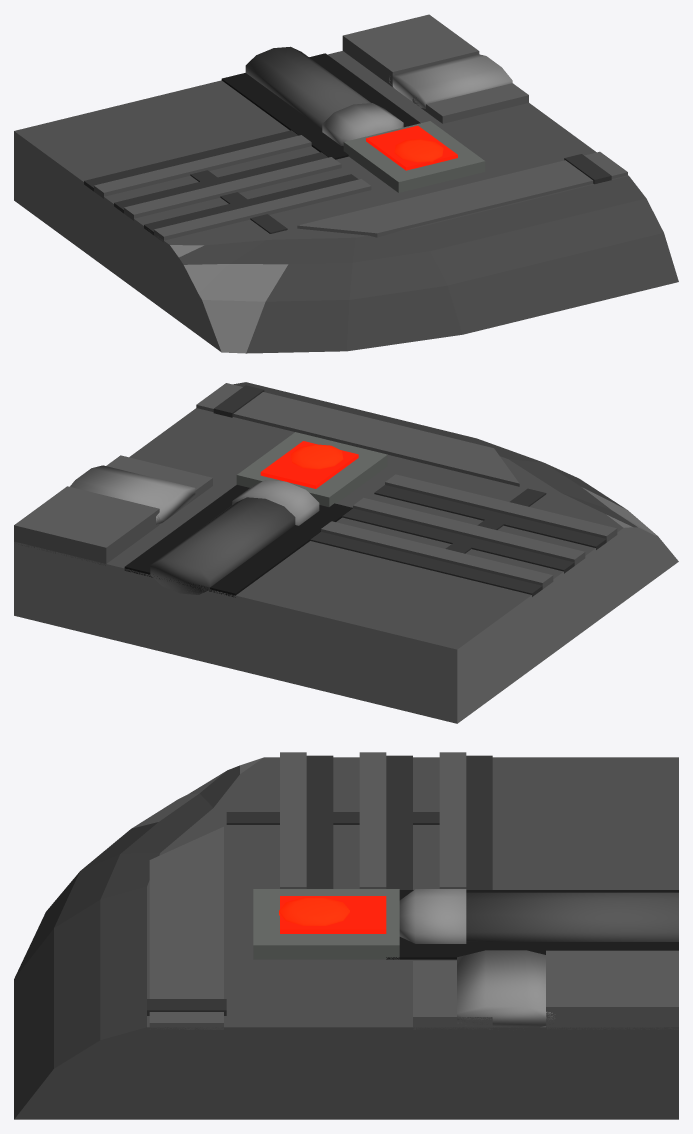
File: newshb-156.glb
The picture shows the model from 3 angles, top to bottom: view 1: azimuth 30°, elevation 25°; view 2: azimuth 150°, elevation 25°; view 3: azimuth 270°, elevation 25°; orthographic projection. The views are drawn at different scales.
Visible parts, largest first — view 1: newshb-156; view 2: newshb-156; view 3: newshb-156.
Boxes of the visible parts, x1,y1,x2,y2 form: newshb-156: (14, 14, 678, 353); newshb-156: (14, 382, 678, 723); newshb-156: (14, 752, 678, 1119).
Bounding box in the file's own units: 2 × 0.42 × 2.08.
